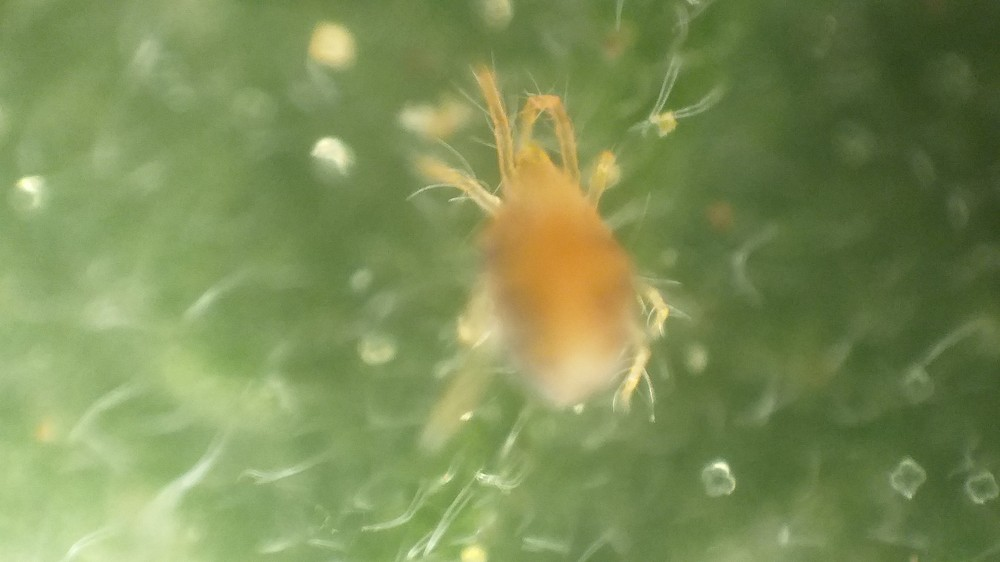Aracnido Rojo: (395, 56, 707, 438)
